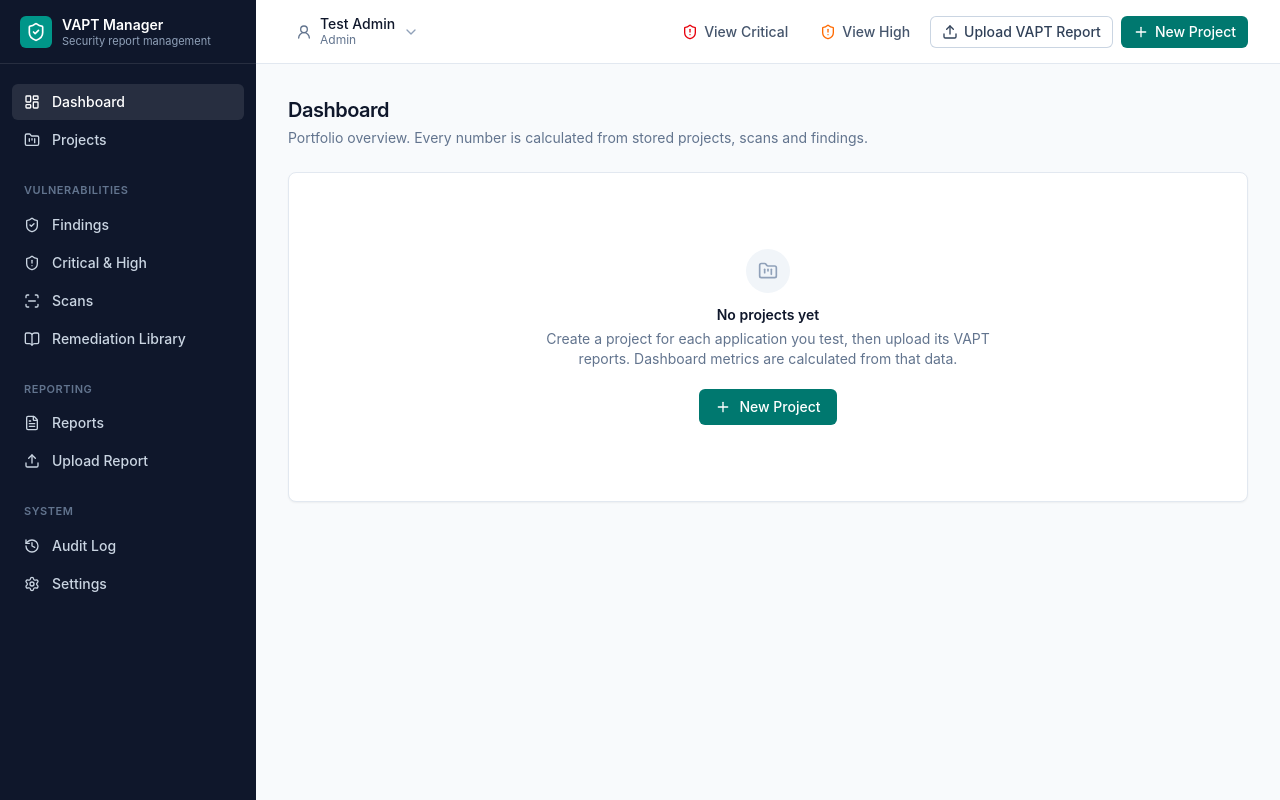
Test case: navigation › navigates between sections and marks the active link
This screenshot has width=1280, height=800.
Click the link "Projects": click(65, 140) [24,131,107,148]
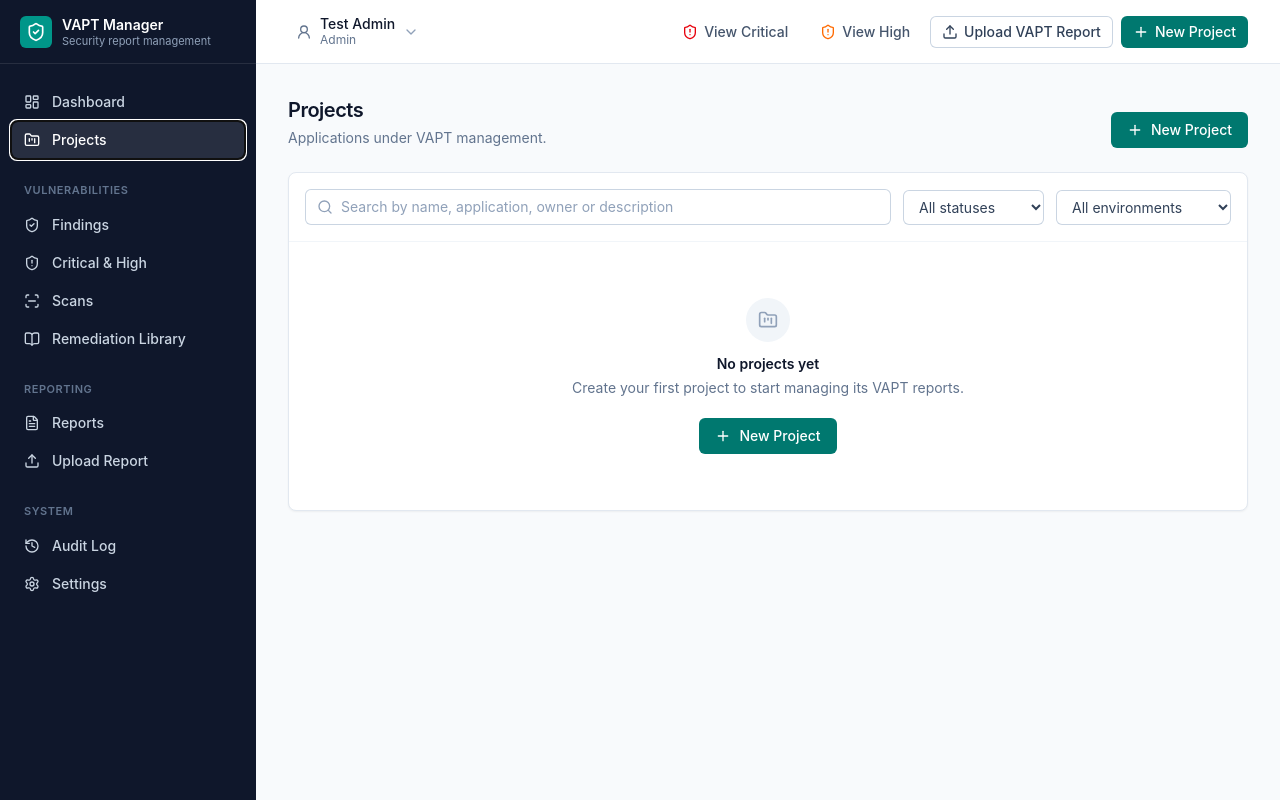
Now the heading "Projects" is shown, box [288,98,363,122]
Click the link "Findings": click(66, 224) [24,216,109,232]
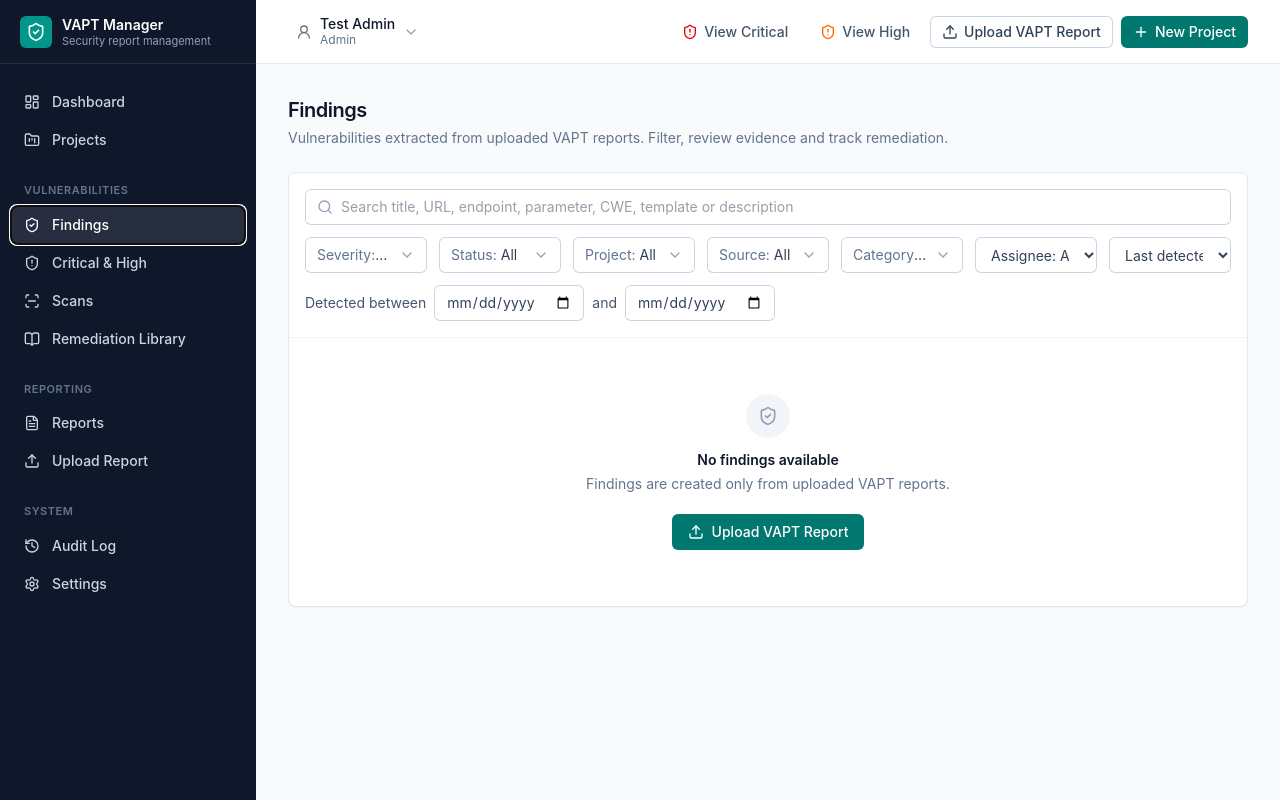
Now the heading "Findings" is shown, box [288,98,367,122]
Now the heading "No findings available" is shown, box [697,450,839,470]
Click the link "Scans": click(59, 300) [24,292,93,308]
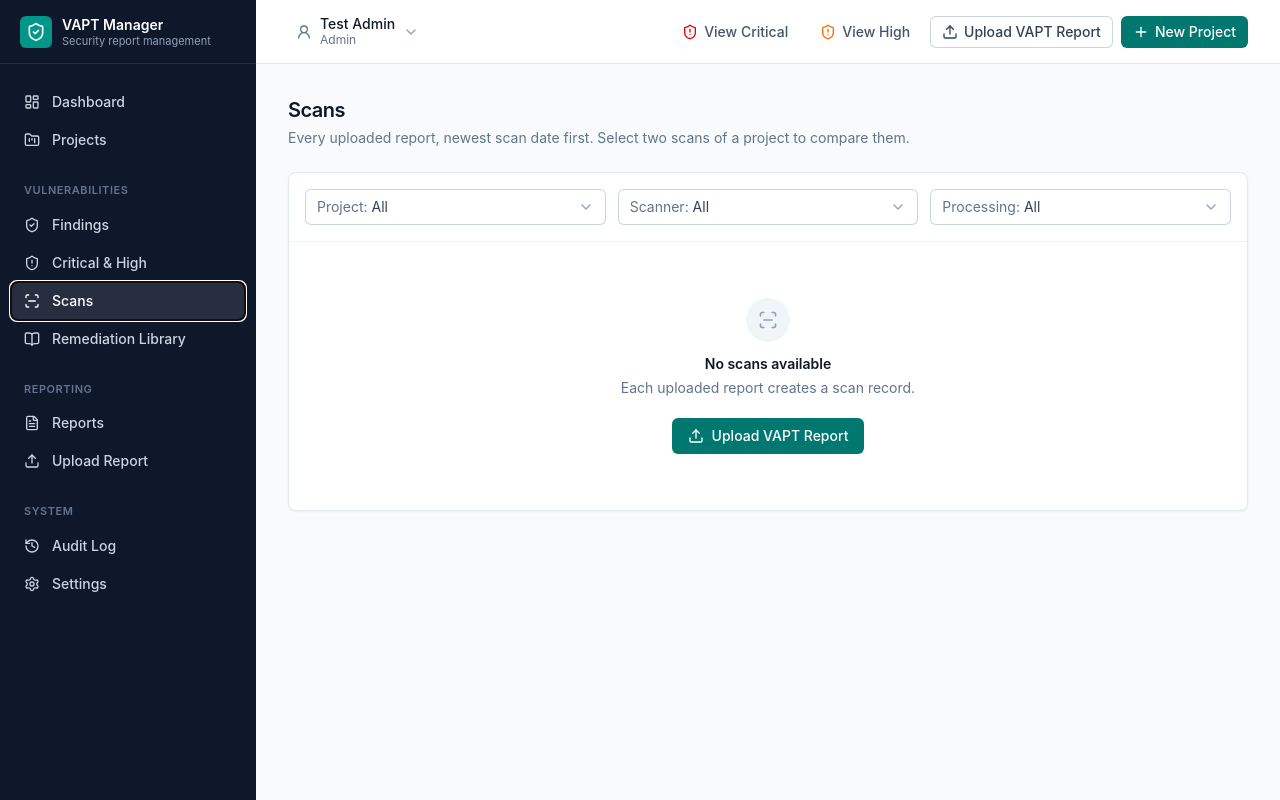
Now the heading "No scans available" is shown, box [705,354,831,374]
